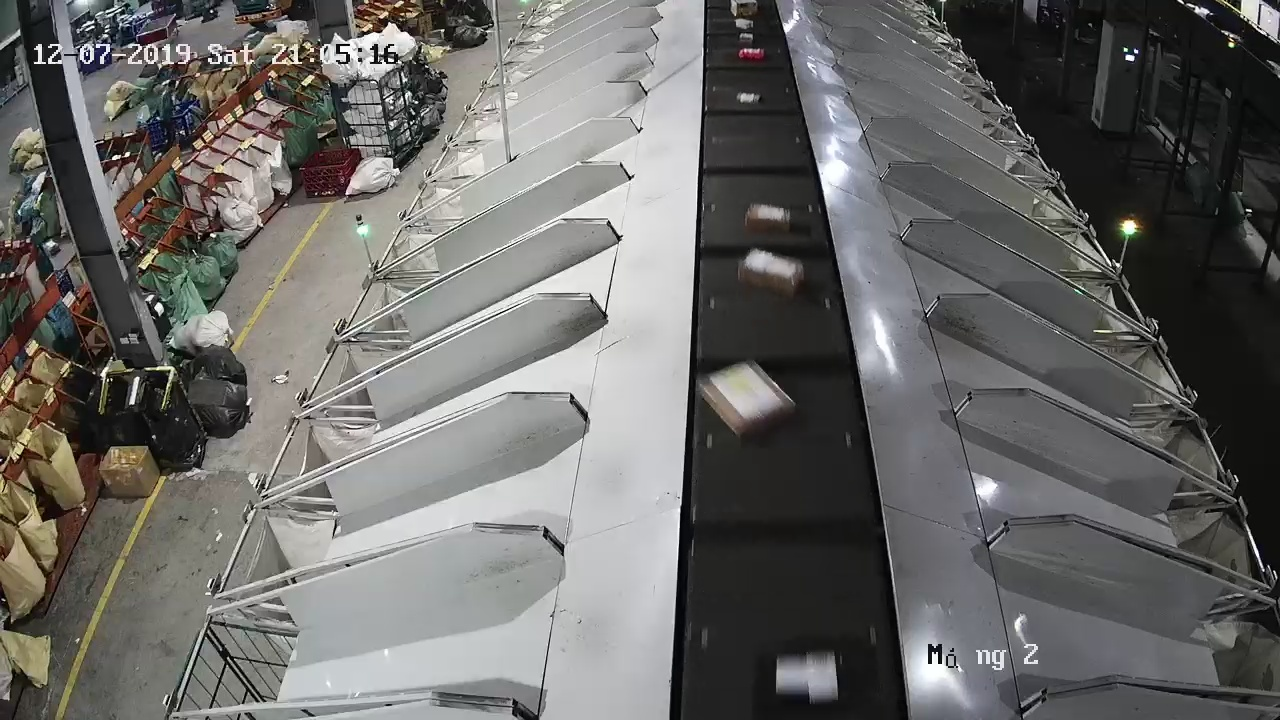parcel: (698, 358, 797, 440)
